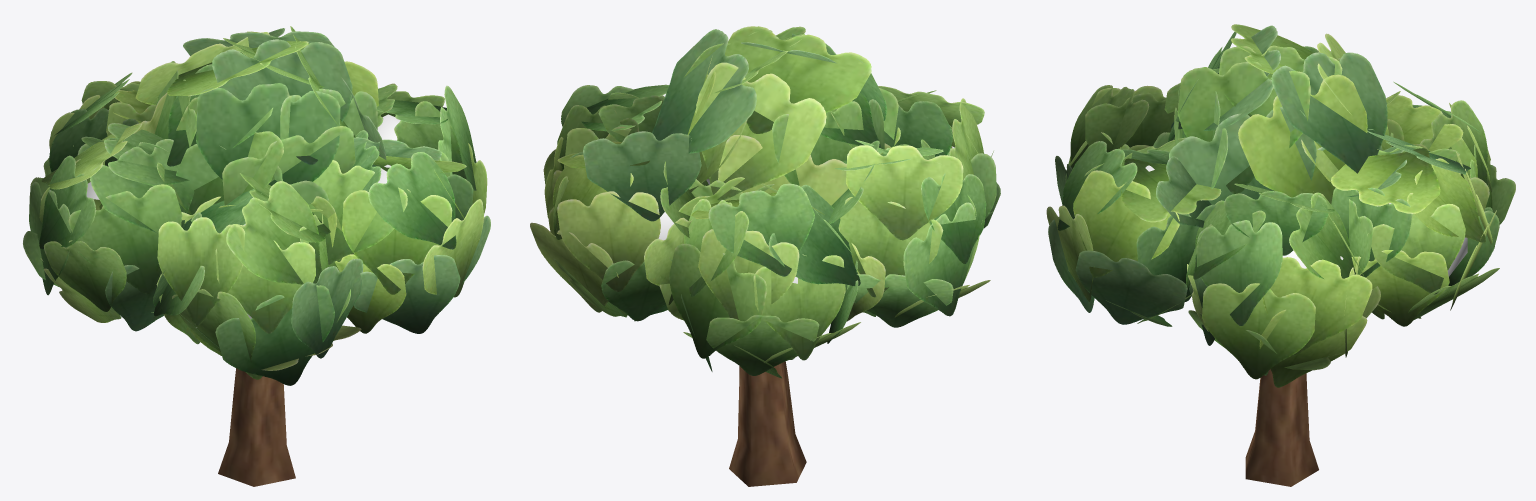
Rendered from tree-wide-summer.lod1.glb.
3 views of the same model, side by side, from view 1: azimuth 30°, elevation 25°; view 2: azimuth 150°, elevation 25°; view 3: azimuth 270°, elevation 25° (orthographic).
Visible parts, largest first — view 1: Crown, Trunk, Hull; view 2: Crown, Trunk; view 3: Crown, Trunk.
Part boxes in pixels (box(x1,y1,x2,y2)): Crown: box(23, 26, 490, 385); Trunk: box(218, 368, 295, 486); Hull: box(86, 114, 400, 327); Crown: box(530, 26, 1000, 378); Trunk: box(729, 361, 806, 486); Crown: box(1046, 24, 1515, 387); Trunk: box(1245, 369, 1318, 486).
Bounding box in the file's own units: 3.4 × 3.18 × 3.23.
Materials: 3 (2 with a texture image).
